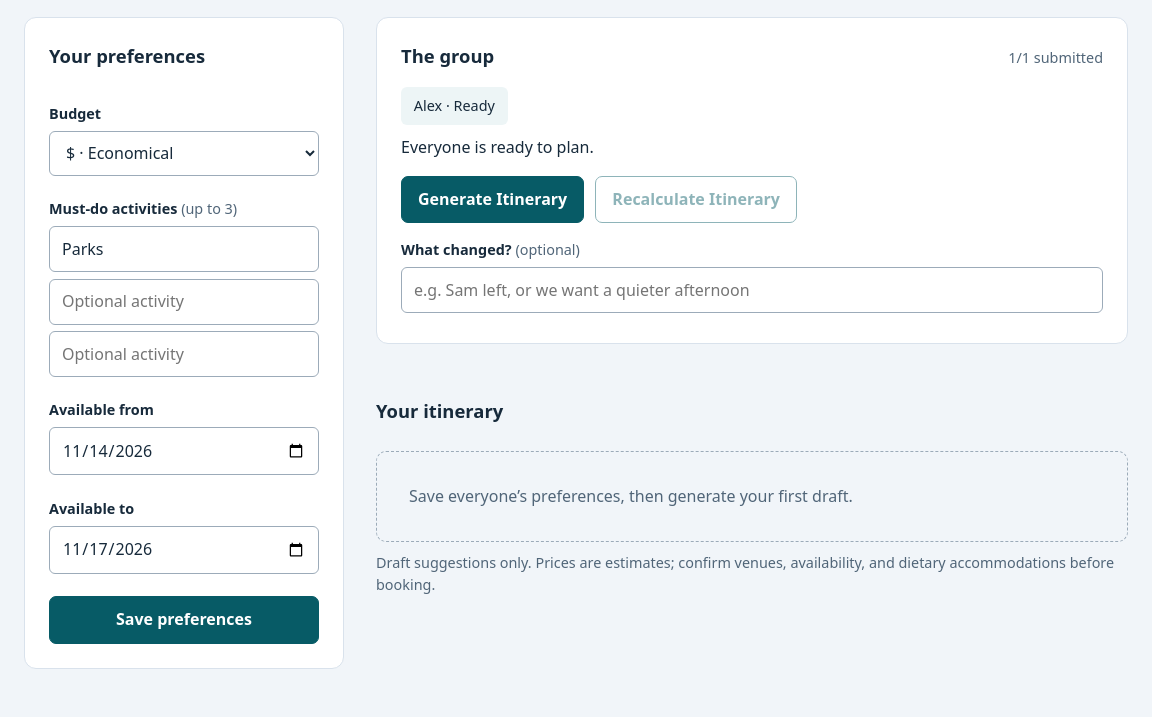
uses host API for preferences and returns a saved plan to the dashboard
(page scrolled)
Expected: the field showing "Parks" is shown, [49,226,319,272]
Click the button "Save preferences" at [184, 620], box [49,596,319,644]
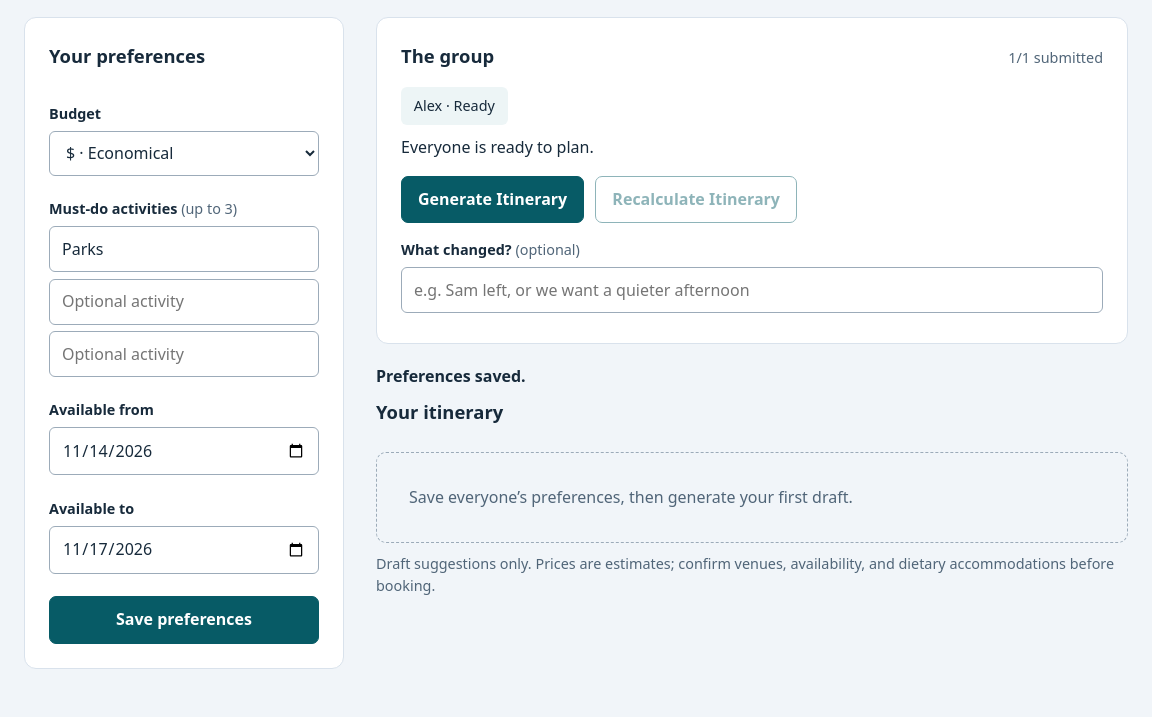
Now the text "Preferences saved." is shown, box [376,365,526,387]
Click the button "Generate Itinerary" at [493, 199], box [401,176,584,223]
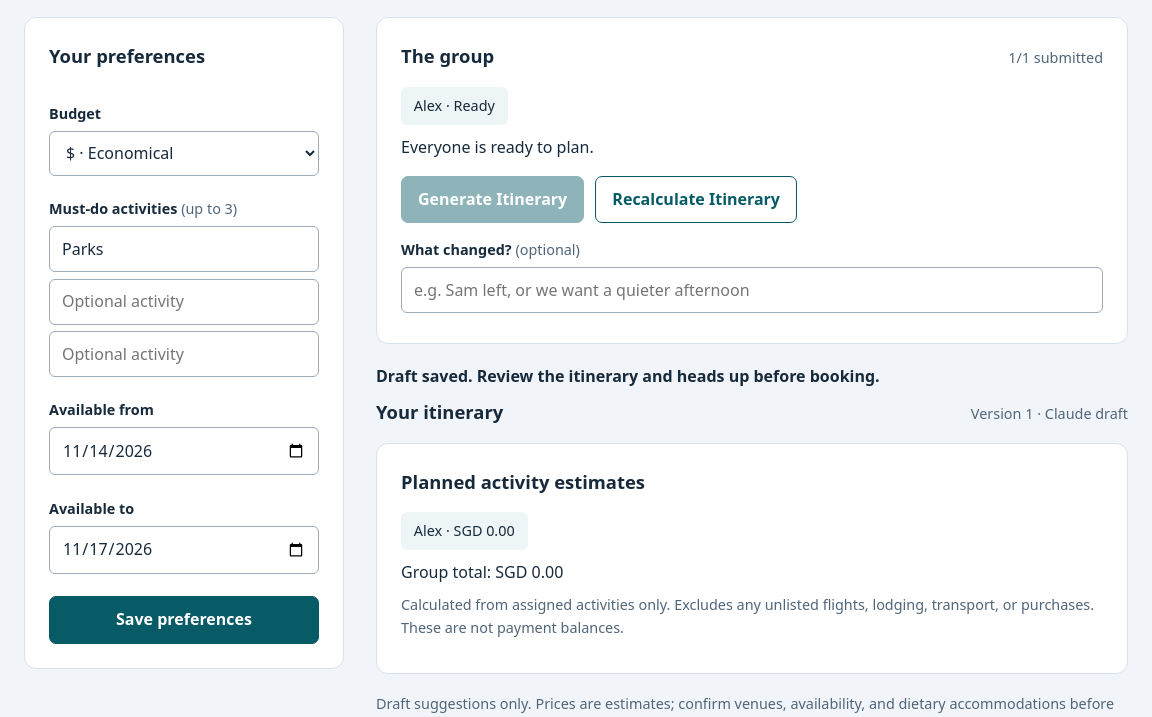
Now the heading "Planned activity estimates" is shown, box [401,469,645,494]
